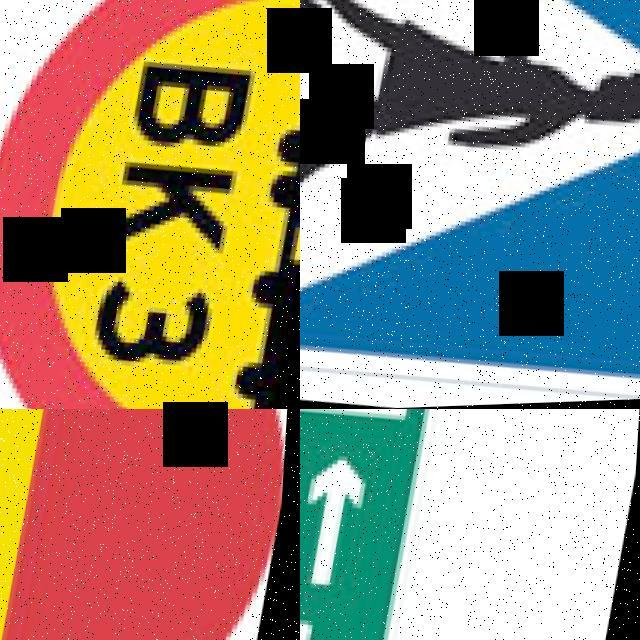129: (300, 409, 488, 640)
15: (0, 0, 300, 409)
32: (0, 409, 300, 640)
Pedestrian crossing: (300, 0, 640, 409)
